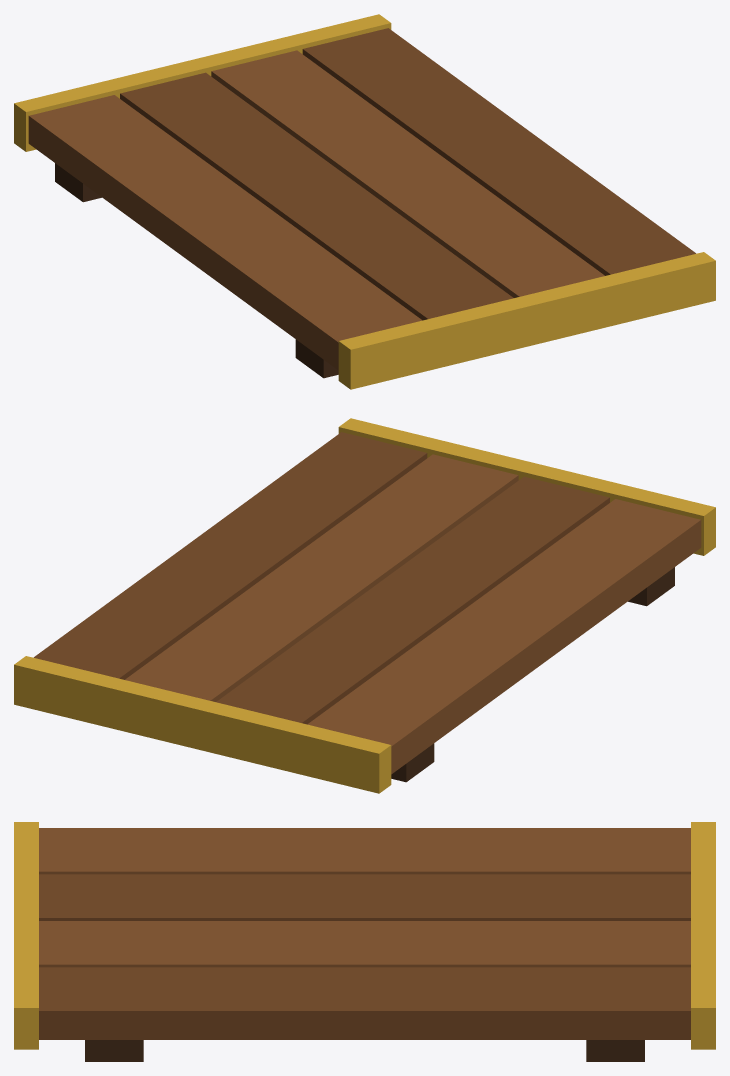
File: Epilog_Plank.fbx
3 renders of one model, top to bottom at view 1: azimuth 30°, elevation 25°; view 2: azimuth 150°, elevation 25°; view 3: azimuth 270°, elevation 25°, orthographic. The views are drawn at different scales.
Visible parts, largest first — view 1: Epilog_Plank; view 2: Epilog_Plank; view 3: Epilog_Plank.
Part boxes in pixels (x1,y1,x2,y2): Epilog_Plank: (14,14,715,389); Epilog_Plank: (14,418,715,793); Epilog_Plank: (14,822,715,1061).
Size of the model in its own units: 526 by 76 by 840.
